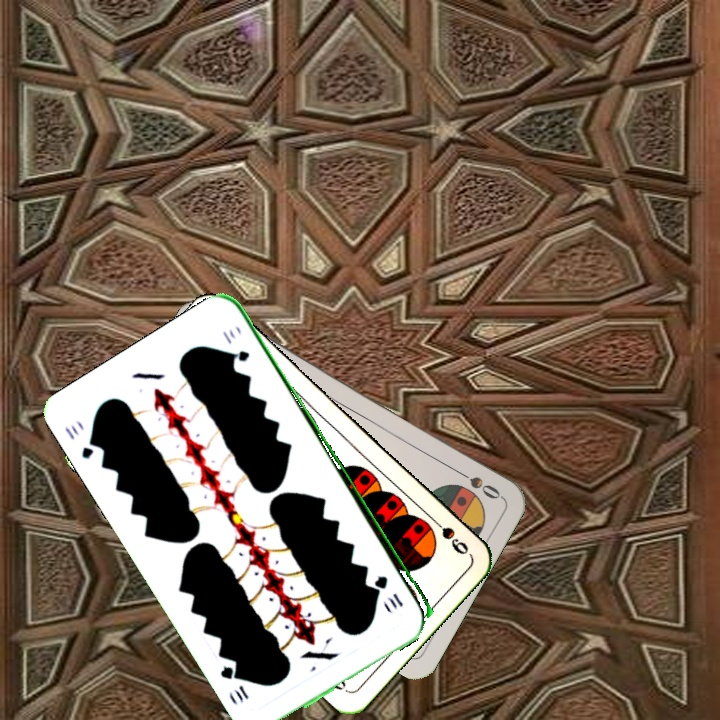G10: (60, 421, 102, 462), (373, 571, 406, 612)
S9: (424, 511, 472, 558)
SO: (450, 464, 503, 502)
